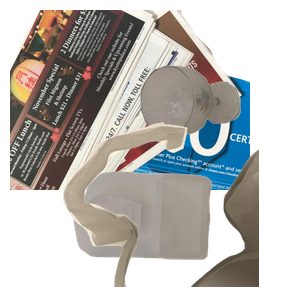glass: (138, 63, 300, 191)
paper: (10, 10, 250, 190)
plastic: (71, 169, 275, 300)
trash: (60, 120, 300, 300)
